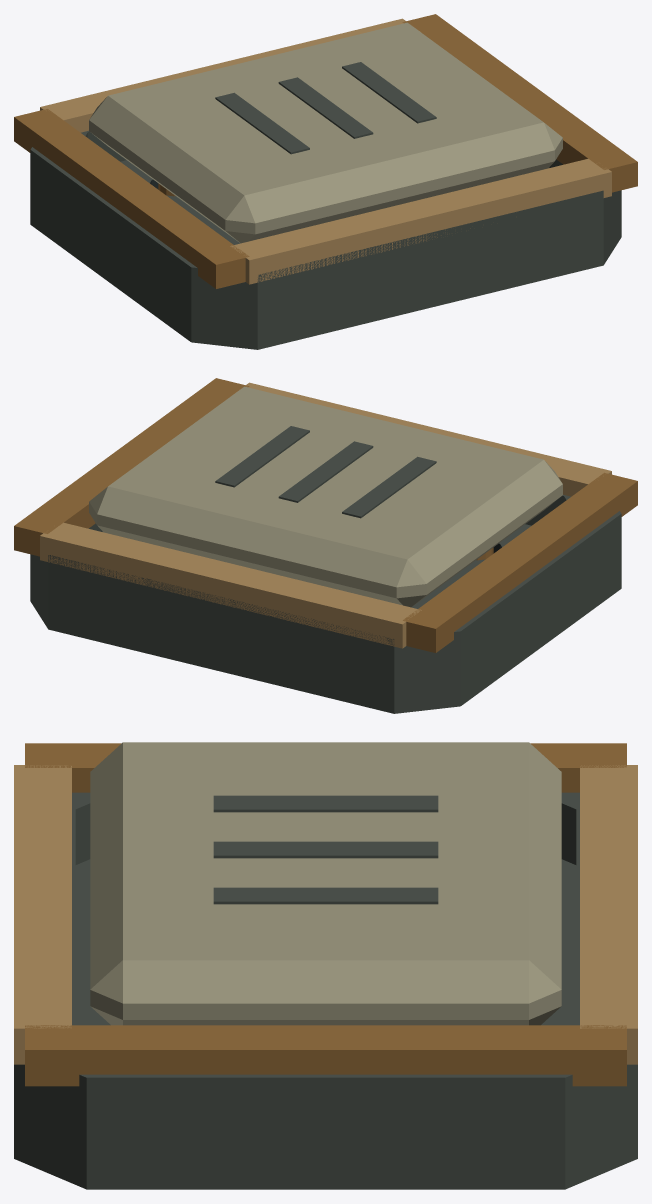
The model's file is PRESSURE_PLATE.shadow.glb.
3 views of the same model, one above another, from view 1: azimuth 30°, elevation 25°; view 2: azimuth 150°, elevation 25°; view 3: azimuth 270°, elevation 25° (orthographic). The views are drawn at different scales.
Parts seen in each view (by area): view 1: Body_Mesh, PlateTravel_Mesh; view 2: Body_Mesh, PlateTravel_Mesh; view 3: Body_Mesh, PlateTravel_Mesh.
Boxes of the visible parts, bbox=[...] form: Body_Mesh: bbox=[14, 14, 637, 349]; PlateTravel_Mesh: bbox=[89, 22, 562, 243]; Body_Mesh: bbox=[14, 378, 637, 713]; PlateTravel_Mesh: bbox=[89, 386, 562, 607]; Body_Mesh: bbox=[14, 743, 637, 1189]; PlateTravel_Mesh: bbox=[90, 742, 561, 1025].
Size of the model in its own units: 1.02 by 0.2805 by 0.86.
